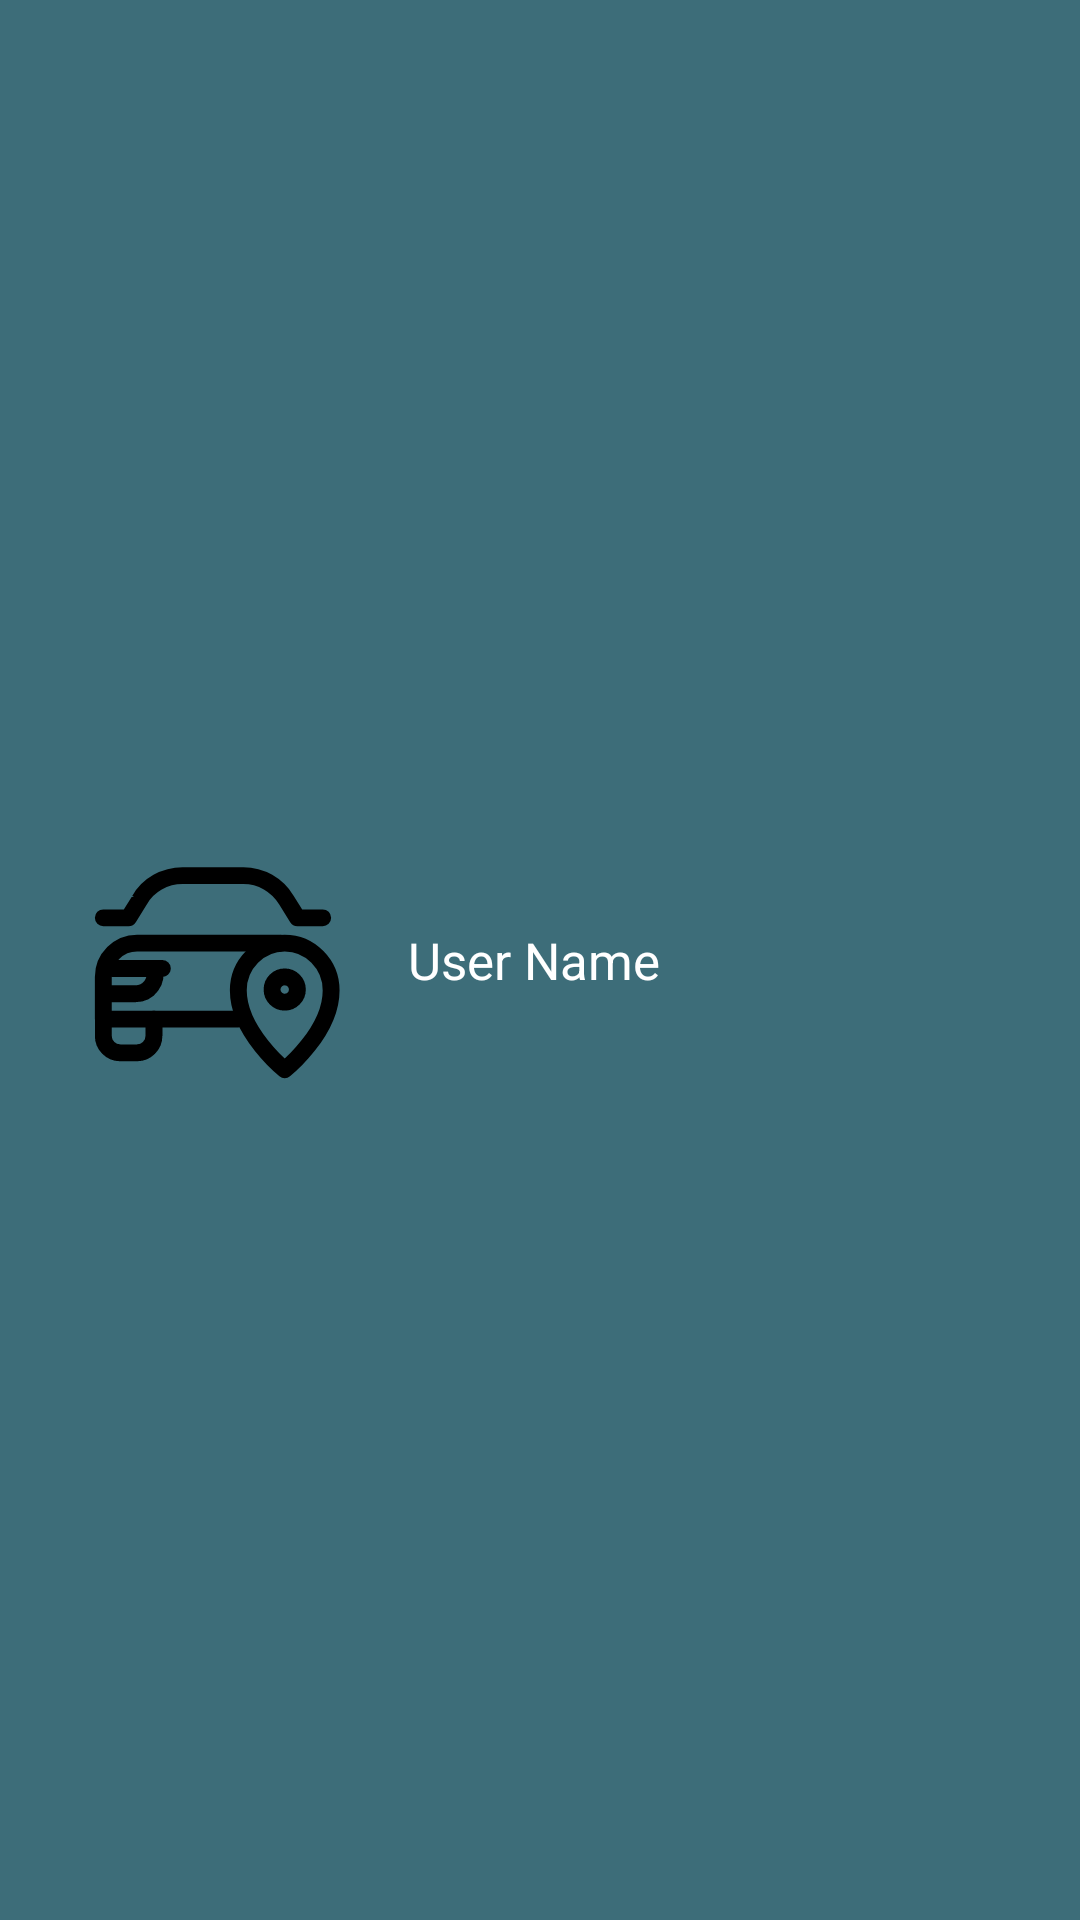

Locate icon controls on the screen. Image size 1080x1920, boxes as (x1,y1,x2,y2).
book car: (95,867,340,1079)
